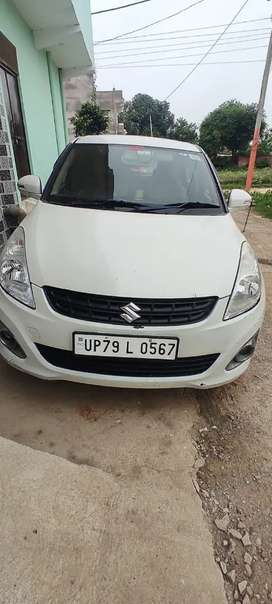UP79L0567: (74, 333, 176, 360)
